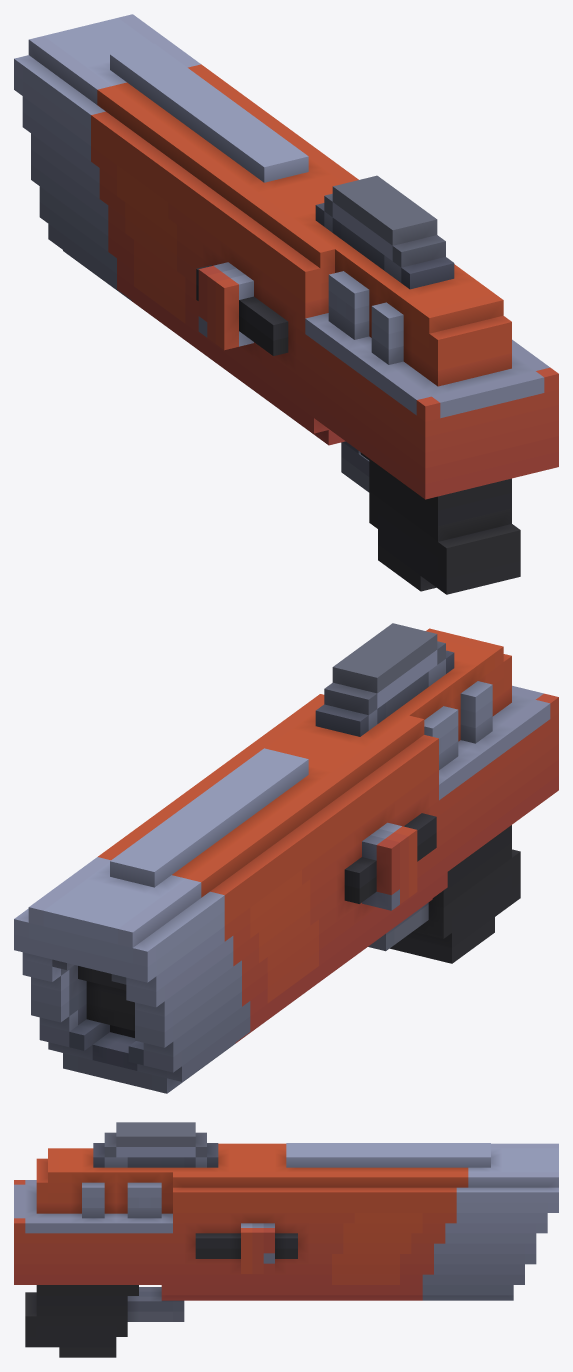
File: blaster_h.glb
The picture shows the model from 3 angles, top to bottom: view 1: azimuth 30°, elevation 25°; view 2: azimuth 150°, elevation 25°; view 3: azimuth 270°, elevation 25°; orthographic projection. The views are drawn at different scales.
Visible parts, largest first — view 1: voxels; view 2: voxels; view 3: voxels.
Part boxes in pixels (bbox=[...]): voxels: bbox=[14, 14, 558, 594]; voxels: bbox=[14, 623, 558, 1093]; voxels: bbox=[14, 1122, 558, 1357].
Bounding box in the file's own units: 0.1784 × 0.2883 × 0.6588.
